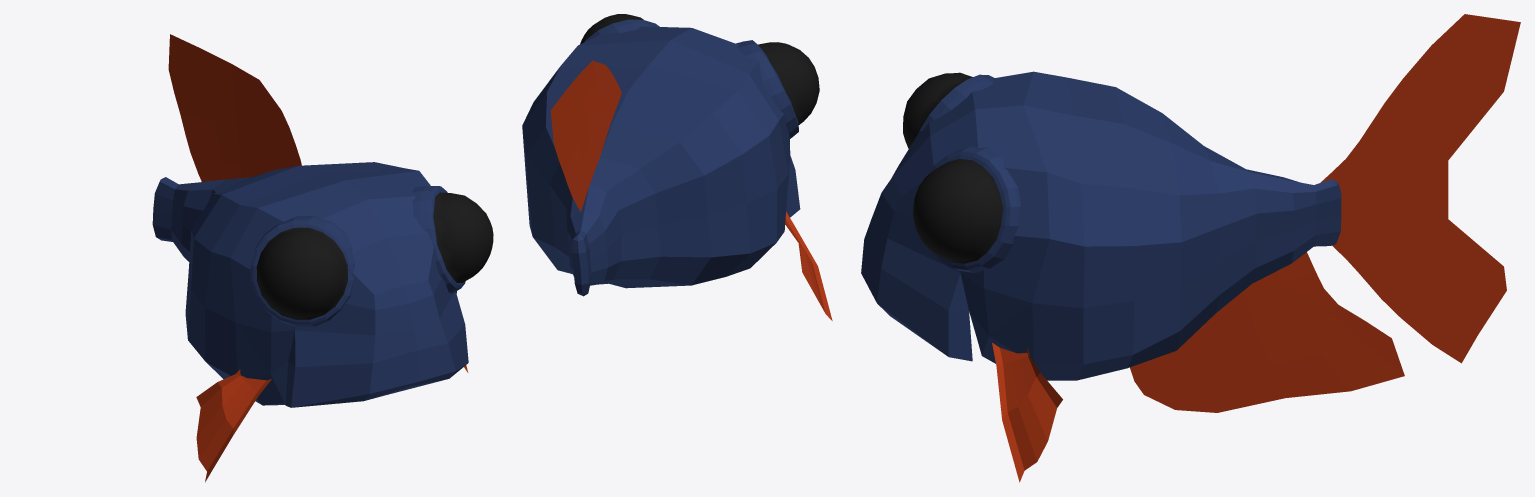
File: betta.glb
3 renders of one model, left to right at view 1: azimuth 30°, elevation 25°; view 2: azimuth 150°, elevation 25°; view 3: azimuth 270°, elevation 25°, orthographic. The views are drawn at different scales.
Parts seen in each view (by area): view 1: Betta_Cube.047; view 2: Betta_Cube.047; view 3: Betta_Cube.047.
Boxes of the visible parts, x1,y1,x2,y2 form: Betta_Cube.047: (152, 34, 493, 482); Betta_Cube.047: (522, 14, 832, 320); Betta_Cube.047: (861, 14, 1520, 482).
Size of the model in its own units: 3.06 by 3.37 by 5.4.
